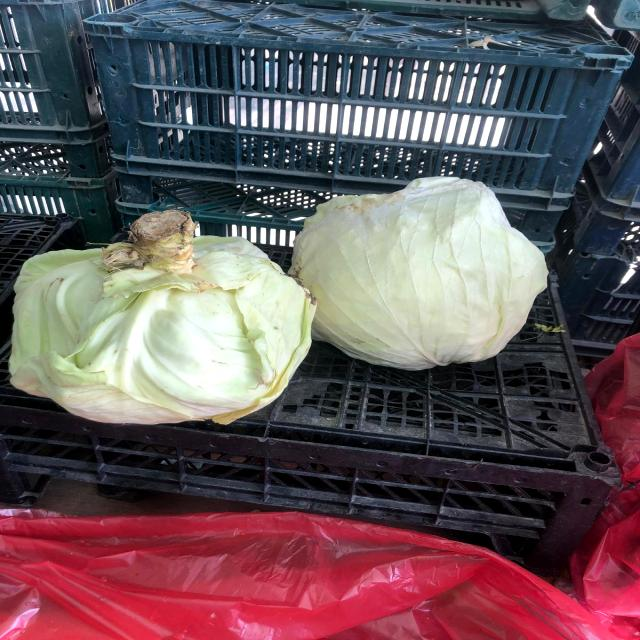cabbage: (0, 194, 327, 436), (271, 156, 569, 378)
